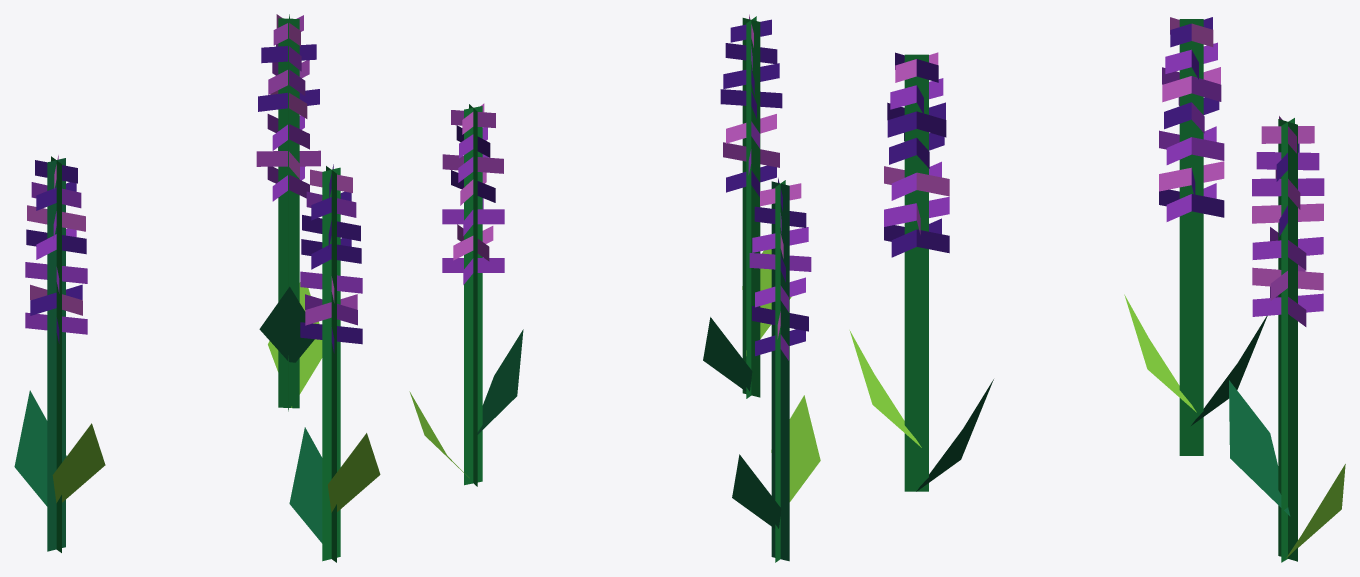
Rendered from flowers_2.gltf.
3 views of the same model, side by side, from view 1: azimuth 30°, elevation 25°; view 2: azimuth 150°, elevation 25°; view 3: azimuth 270°, elevation 25° (orthographic). The views are drawn at different scales.
Parts seen in each view (by area): view 1: plane (×33); view 2: plane (×25); view 3: plane (×35).
Boxes of the visible parts, left/top/right/bottom form: plane (×33): left=14, top=18, right=380, bottom=562; plane (×25): left=442, top=16, right=820, bottom=562; plane (×35): left=849, top=19, right=1345, bottom=562.
Size of the model in its own units: 0.5841 by 0.6937 by 0.6434.
1 material, 1 textured.
